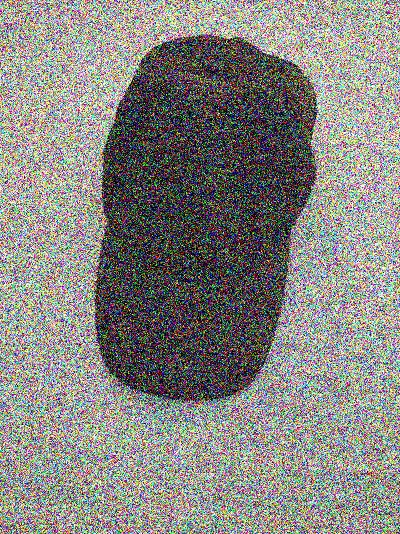Hat: (66, 11, 343, 390)
